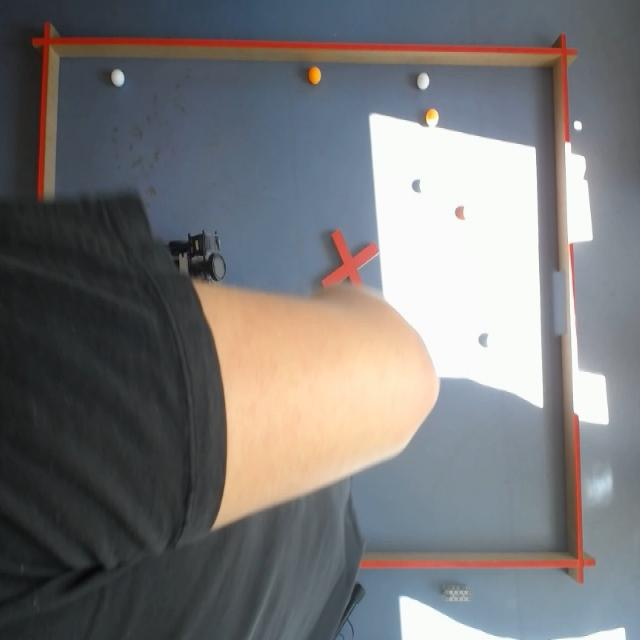orange: (306, 65, 322, 87), (424, 106, 439, 129)
robot: (168, 231, 227, 284)
white: (109, 66, 125, 89), (415, 70, 431, 93)
